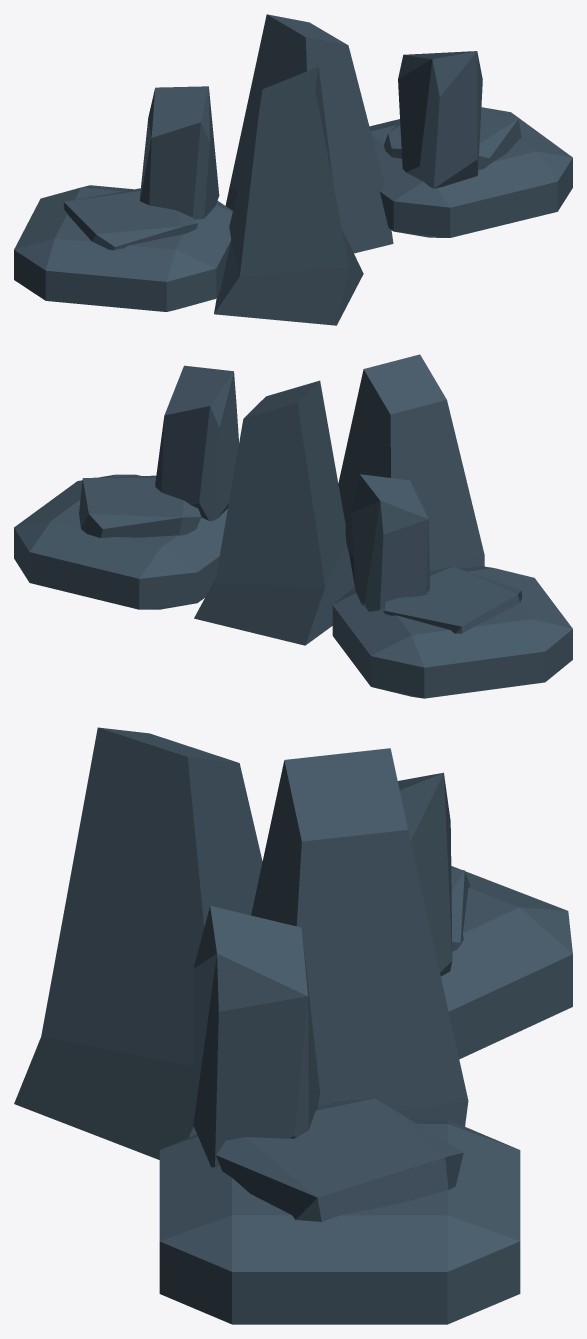
Rendered from rock-032.glb.
The picture shows the model from 3 angles, top to bottom: view 1: azimuth 30°, elevation 25°; view 2: azimuth 150°, elevation 25°; view 3: azimuth 270°, elevation 25°; orthographic projection. The views are drawn at different scales.
Parts seen in each view (by area): view 1: Rock 17_532; view 2: Rock 17_532; view 3: Rock 17_532.
Boxes of the visible parts, x1=… form: Rock 17_532: x1=14, y1=14, x2=572, y2=325; Rock 17_532: x1=14, y1=354, x2=572, y2=698; Rock 17_532: x1=14, y1=727, x2=572, y2=1324.
Size of the model in its own units: 3.56 by 1.5 by 1.95.
